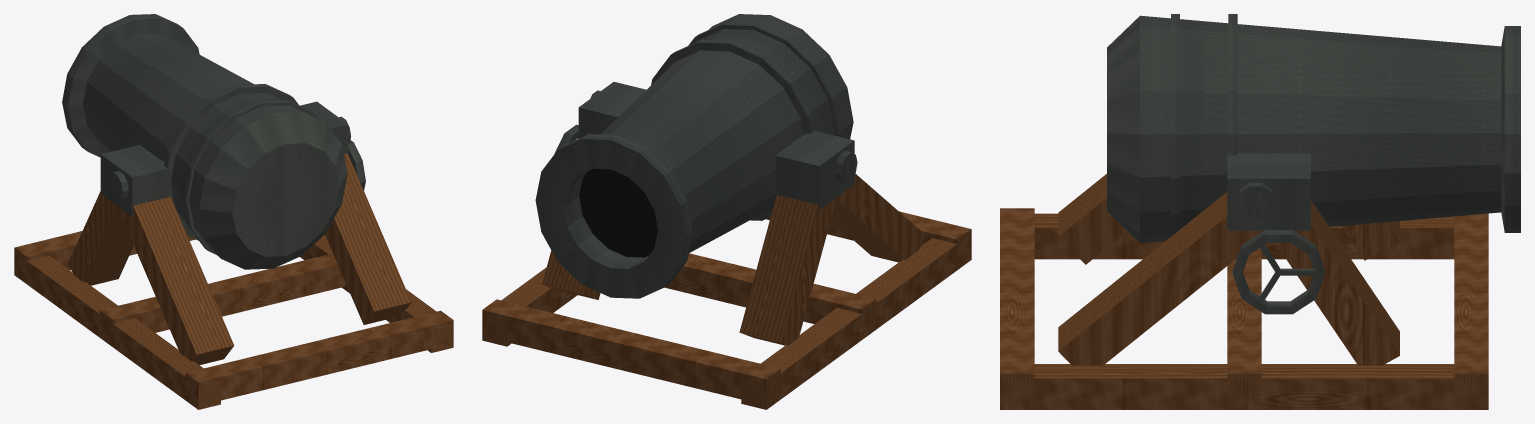
The model's file is fat-freda.glb.
3 views of the same model, side by side, from view 1: azimuth 30°, elevation 25°; view 2: azimuth 150°, elevation 25°; view 3: azimuth 270°, elevation 25° (orthographic). The views are drawn at different scales.
Parts seen in each view (by area): view 1: barrel, frame, turntable; view 2: barrel, frame, turntable; view 3: barrel, frame, turntable.
Boxes of the visible parts, x1=… form: barrel: x1=62, y1=14, x2=350, y2=269; frame: x1=14, y1=231, x2=453, y2=409; turntable: x1=68, y1=101, x2=411, y2=365; barrel: x1=535, y1=14, x2=857, y2=298; frame: x1=482, y1=211, x2=971, y2=409; turntable: x1=542, y1=82, x2=924, y2=345; barrel: x1=1107, y1=14, x2=1520, y2=242; frame: x1=1000, y1=208, x2=1488, y2=409; turntable: x1=1058, y1=153, x2=1399, y2=365.
Size of the model in its own units: 3.4 by 2.9 by 4.53.
1 material, 1 textured.
